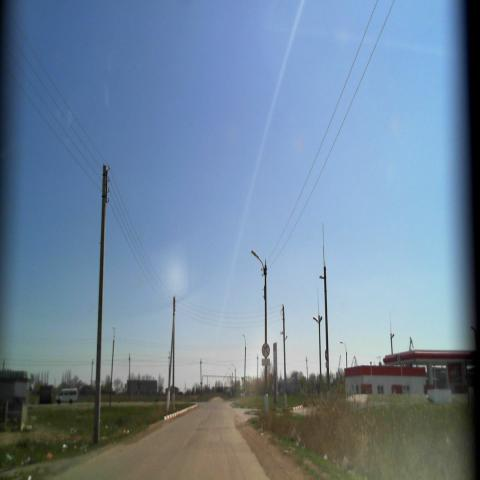3_18: (262, 341, 270, 358)
